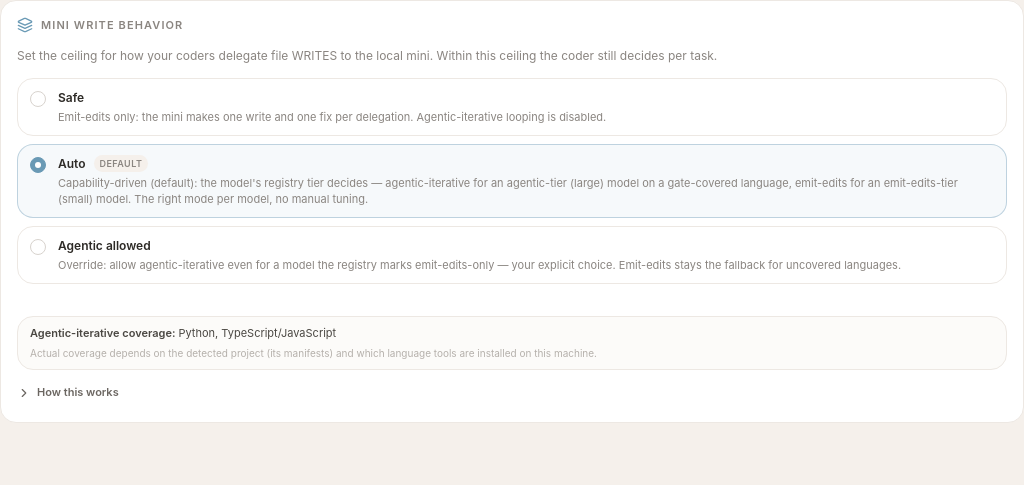
MiniWriteBehaviorCard › reverts the selection when the save fails
Click the radio button that starts with "Agentic allowed".
click(512, 254)  # box [17,226,1007,284]
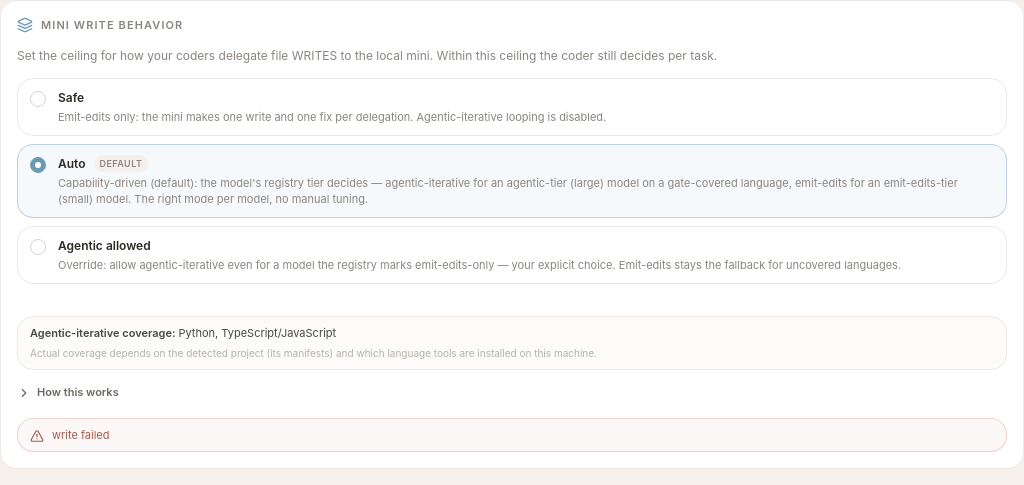
Expected: the radio button that starts with "Auto" is shown, [17,144,1007,218]
Now the text "write failed" is shown, box [52,426,110,442]
